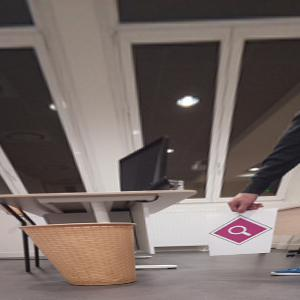search: (211, 215, 272, 245)
